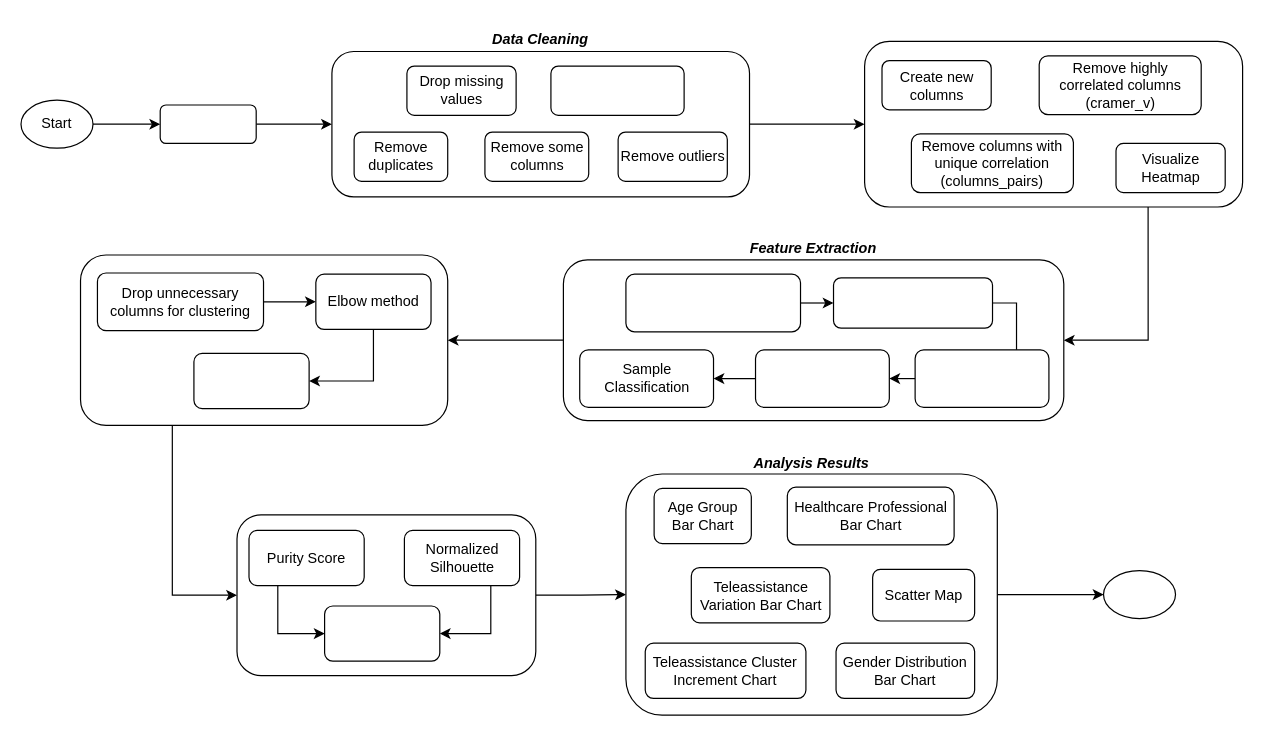
Image size: 1264x737. Some labels were removed from this diagram. Here are the shapes that lost their labels. From the top down, the box of each, then its label:
(550, 65, 684, 115): Imputation and filling values
(159, 104, 256, 143): Get Raw Data
(863, 40, 1243, 207): Feature Selection
(625, 273, 801, 332): Calculate increment of number of services for each group
(832, 277, 993, 328): Calculate perce ntage increment
(79, 254, 448, 425): Modelling Supervised Clustering
(193, 352, 309, 409): Apply K-modes Clustering
(754, 349, 889, 407): Classify Increment
(914, 349, 1049, 407): Histplot and Boxplot of avg increment
(236, 514, 536, 676): Metrics Evaluation
(1102, 569, 1176, 619): End
(323, 605, 440, 661): Final metric with penalty
